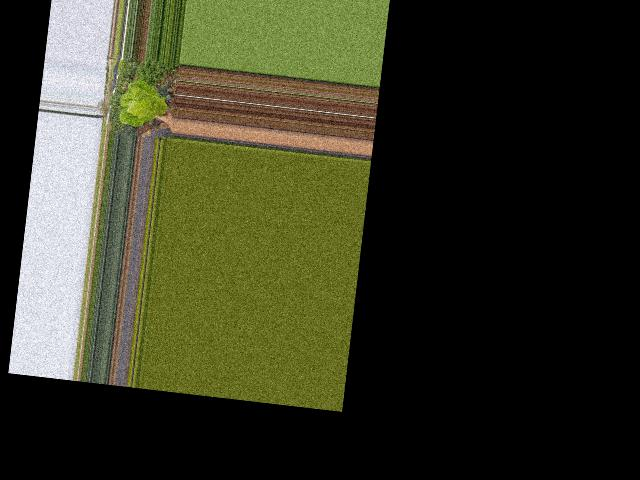lettuce: (117, 77, 174, 132)
